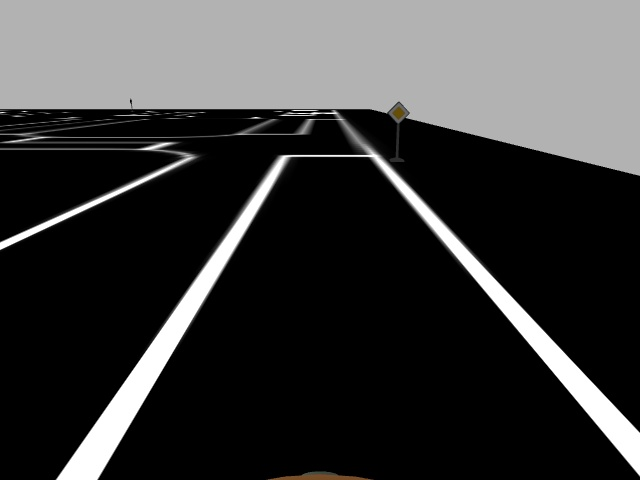priority: (385, 100, 410, 124)
